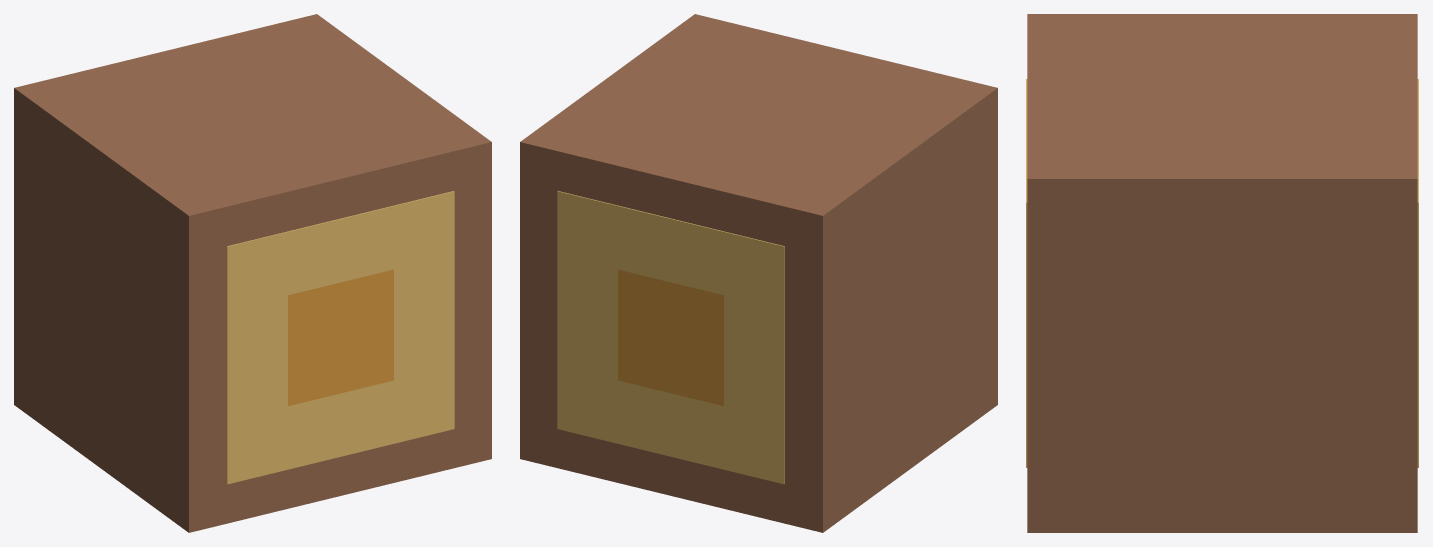
File: Log 1.fbx
3 renders of one model, left to right at view 1: azimuth 30°, elevation 25°; view 2: azimuth 150°, elevation 25°; view 3: azimuth 270°, elevation 25°, orthographic. The views are drawn at different scales.
Parts seen in each view (by area): view 1: Log_1; view 2: Log_1; view 3: Log_1.
Boxes of the visible parts, x1,y1,x2,y2 form: Log_1: (14, 14, 491, 532); Log_1: (520, 14, 997, 532); Log_1: (1026, 14, 1418, 532).
Size of the model in its own units: 2 by 2 by 2.01.
